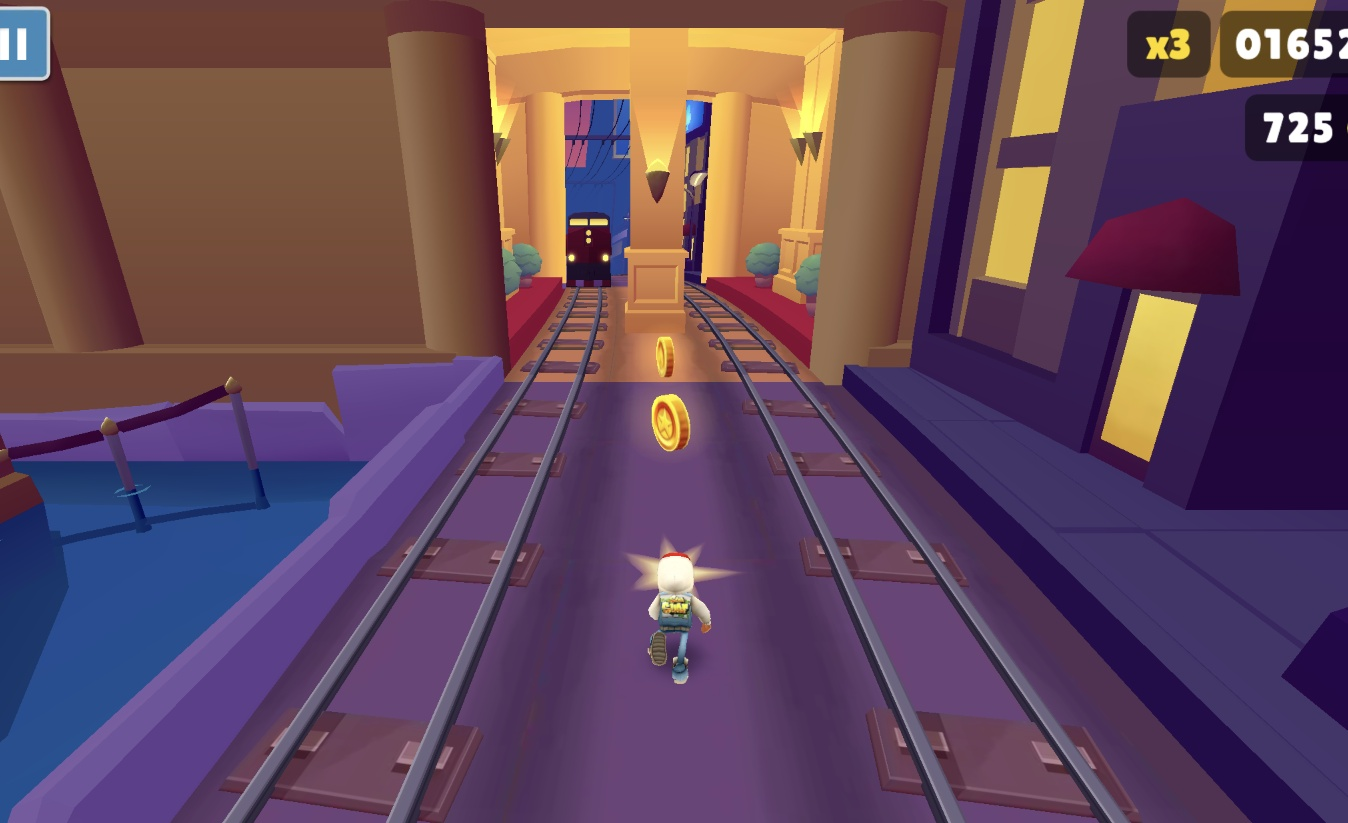pillar: (620, 27, 711, 383)
train: (559, 210, 623, 323)
